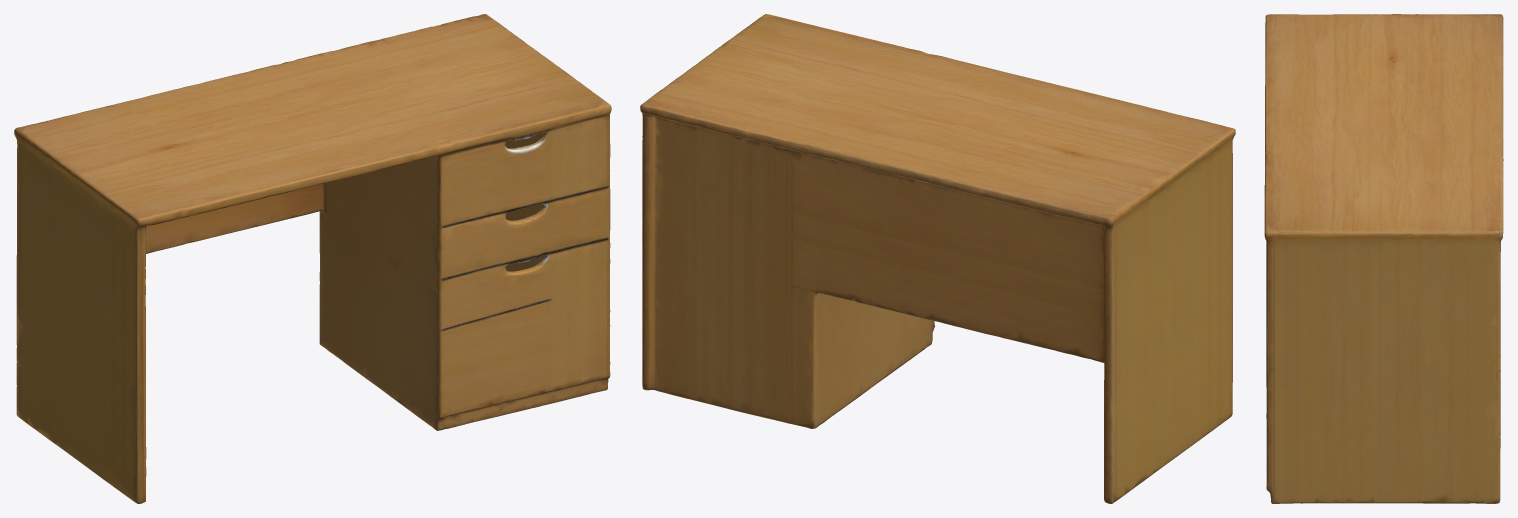
3 views of the same model, side by side, from view 1: azimuth 30°, elevation 25°; view 2: azimuth 150°, elevation 25°; view 3: azimuth 270°, elevation 25° (orthographic). The views are drawn at different scales.
Bounding box in the file's own units: 2.01 × 1.17 × 0.9288.
Materials: 1 (1 with a texture image).
